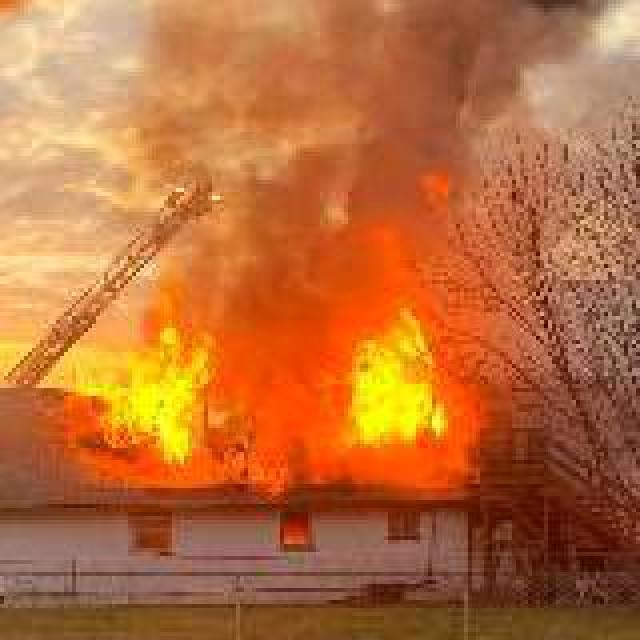smoke: (136, 0, 640, 232)
